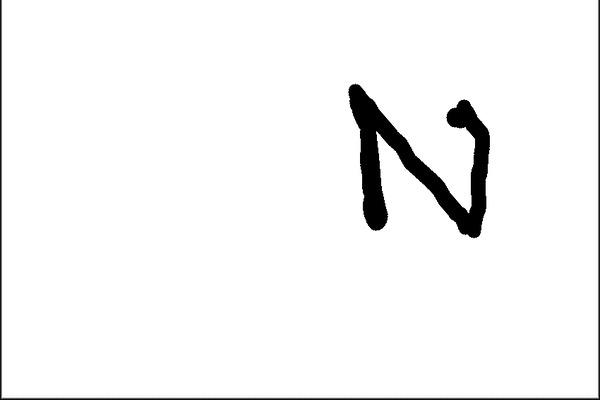N: (341, 75, 495, 244)
